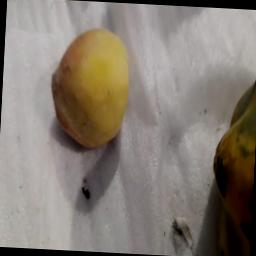Peach Unripe: (41, 21, 140, 154)
